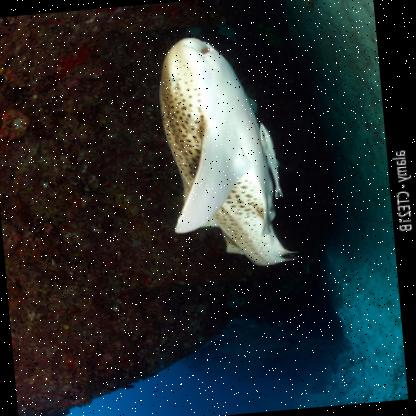zebra_shark: (98, 18, 310, 291)
